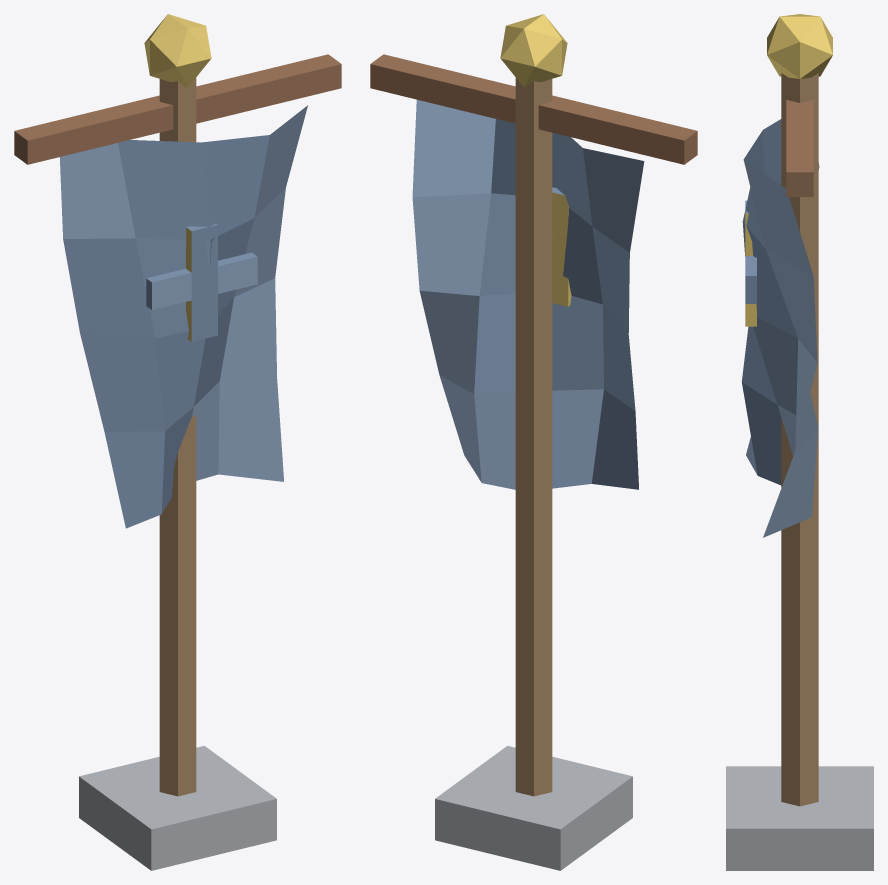
Rendered from animprop_banner_03.glb.
3 views of the same model, side by side, from view 1: azimuth 30°, elevation 25°; view 2: azimuth 150°, elevation 25°; view 3: azimuth 270°, elevation 25° (orthographic).
Parts seen in each view (by area): view 1: animprop; view 2: animprop; view 3: animprop.
Part boxes in pixels (bbox=[...]): animprop: bbox=[14, 14, 341, 870]; animprop: bbox=[370, 14, 697, 870]; animprop: bbox=[726, 14, 873, 870].
Bounding box in the file's own units: 0.95 × 2.34 × 0.38.
